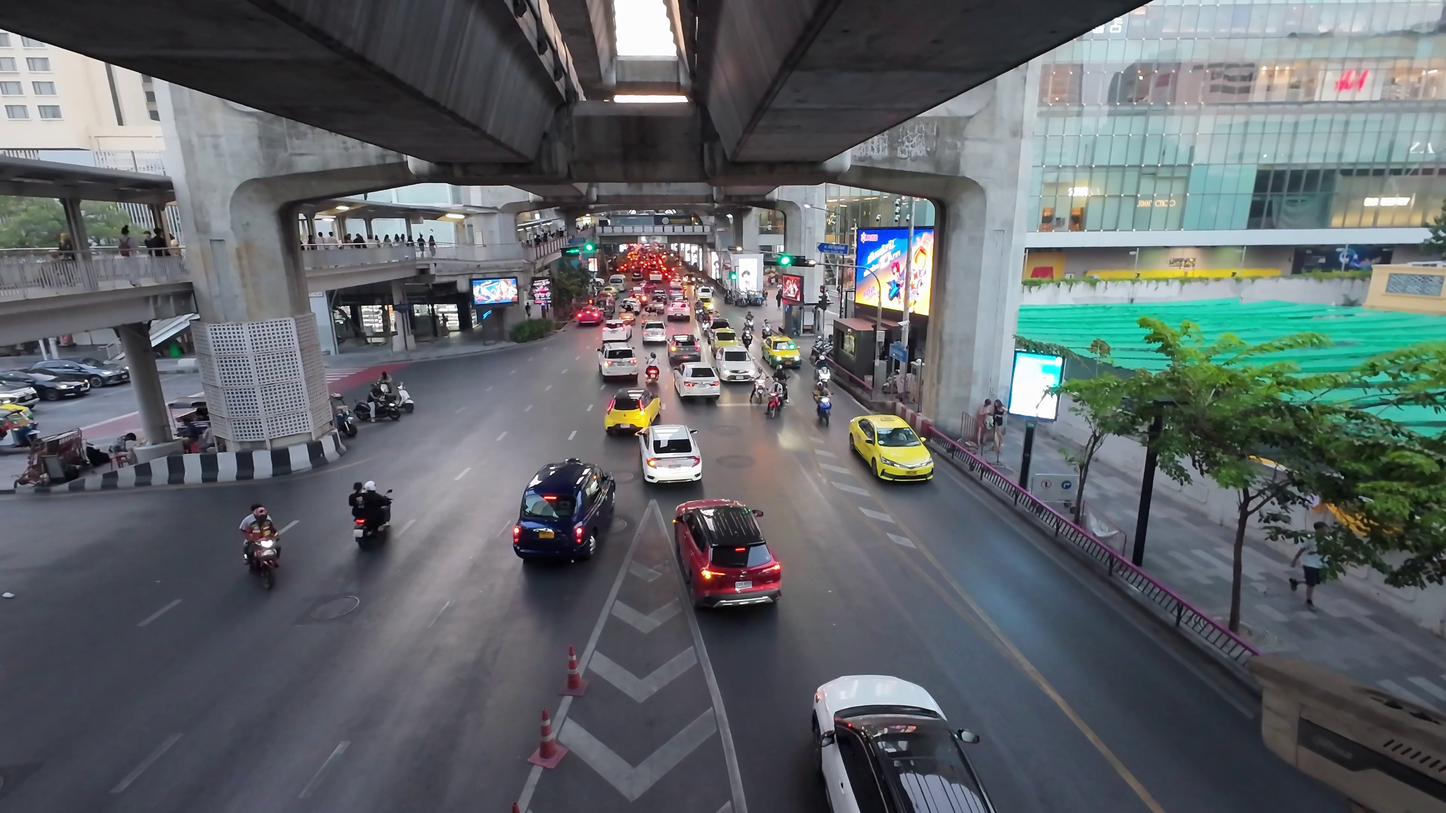license_plate: (856, 758, 949, 802), (700, 567, 756, 603), (535, 522, 586, 556), (870, 456, 912, 479), (655, 461, 687, 481), (37, 384, 74, 397), (358, 527, 381, 545), (374, 408, 401, 421), (688, 385, 711, 398)
motorcycle: (347, 478, 392, 548), (360, 371, 414, 424)
no_seatbelt: (837, 696, 968, 764), (689, 516, 767, 572), (525, 475, 596, 527), (862, 423, 921, 459), (648, 433, 694, 464), (29, 366, 82, 386), (684, 367, 715, 387)
